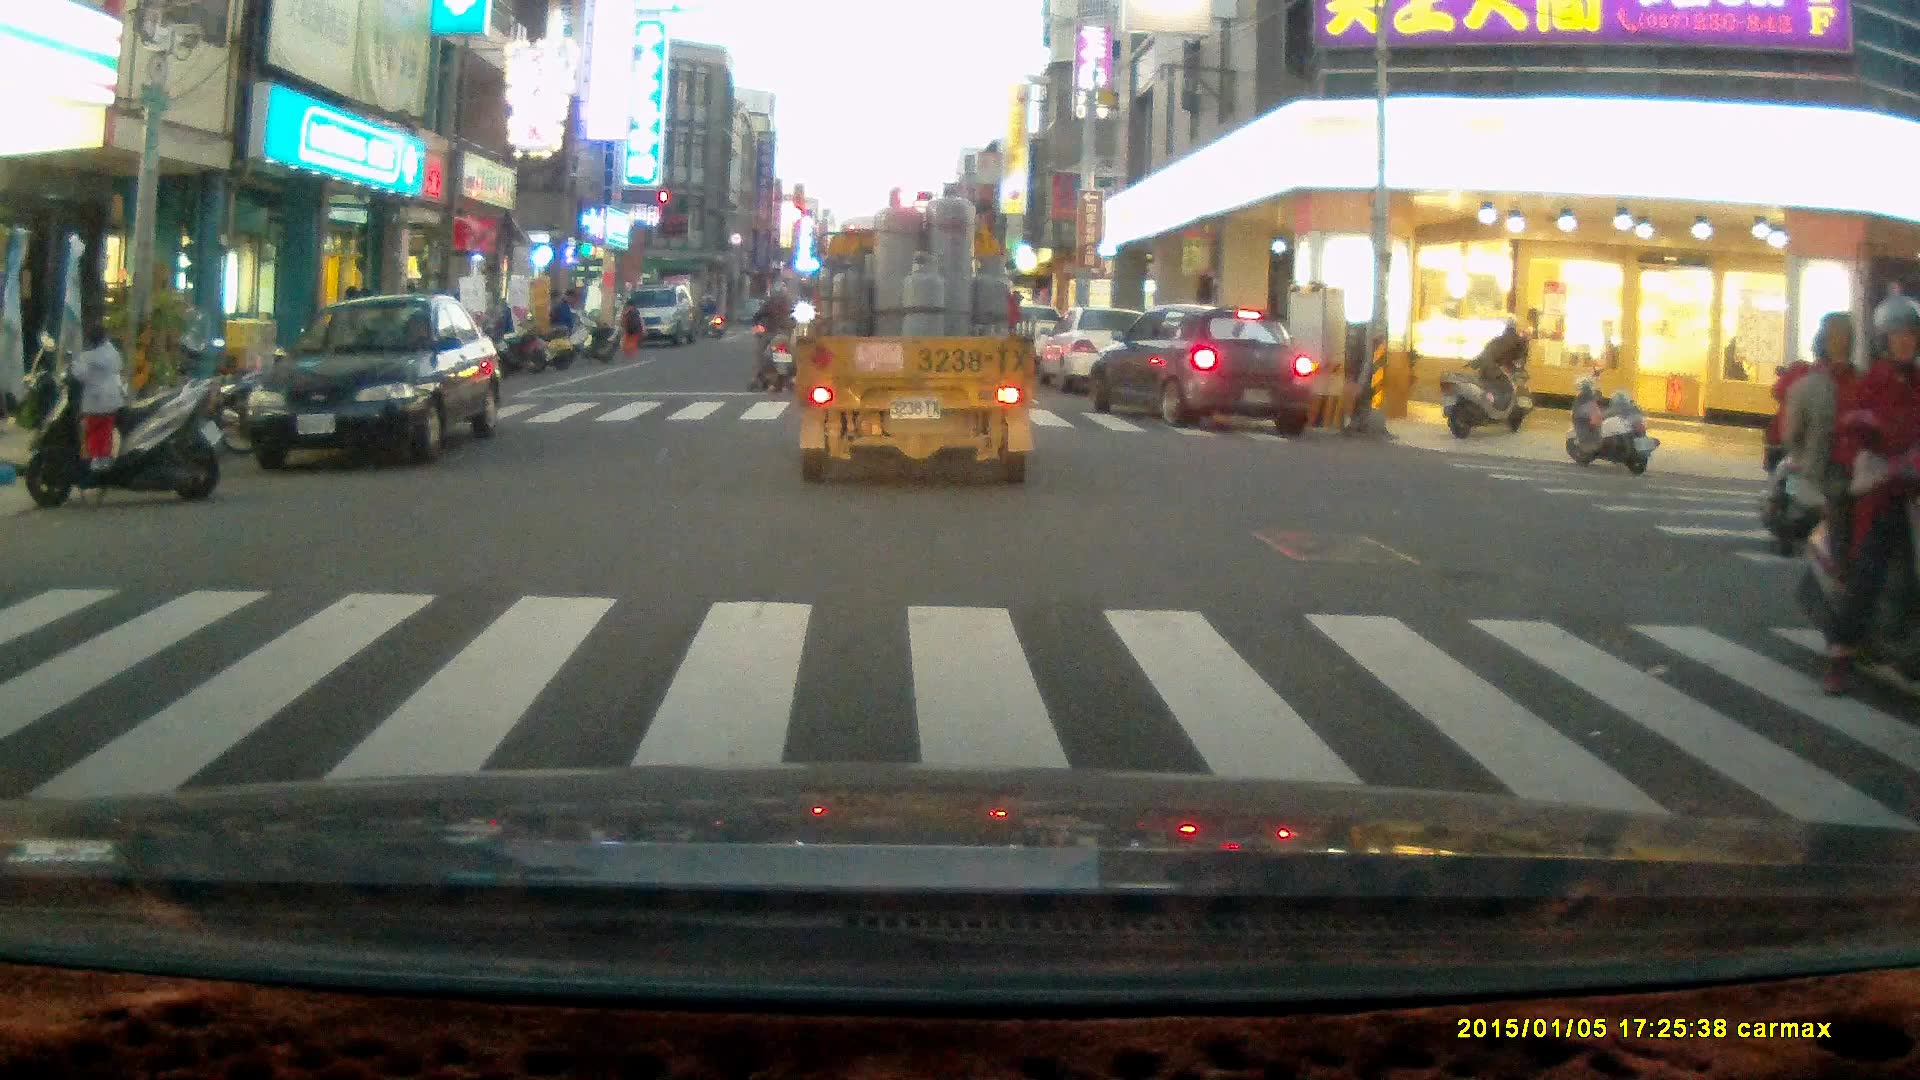pedestrian: (67, 319, 125, 471), (550, 285, 580, 354), (621, 297, 643, 357)
rider: (1783, 291, 1920, 703), (742, 266, 802, 392), (1477, 310, 1535, 432)
vehicle: (789, 183, 1036, 486), (248, 293, 502, 468), (1086, 308, 1314, 432), (1038, 307, 1171, 398), (616, 280, 694, 342)
